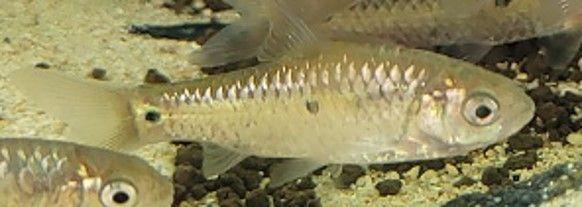Black Spotted Barb: (10, 0, 536, 190)
